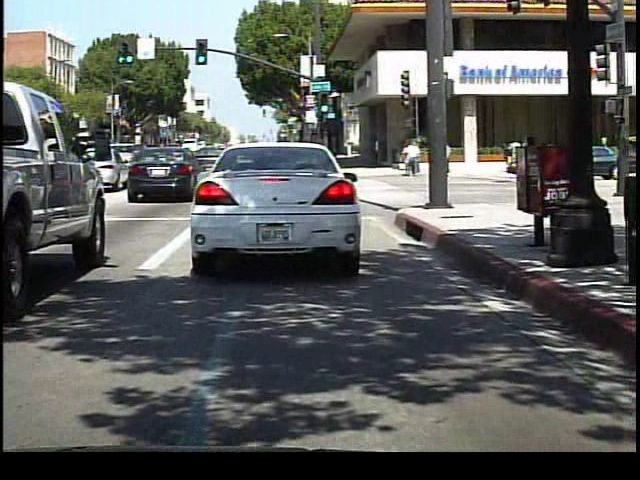person: (504, 135, 525, 175), (403, 136, 422, 179), (436, 136, 455, 172)
